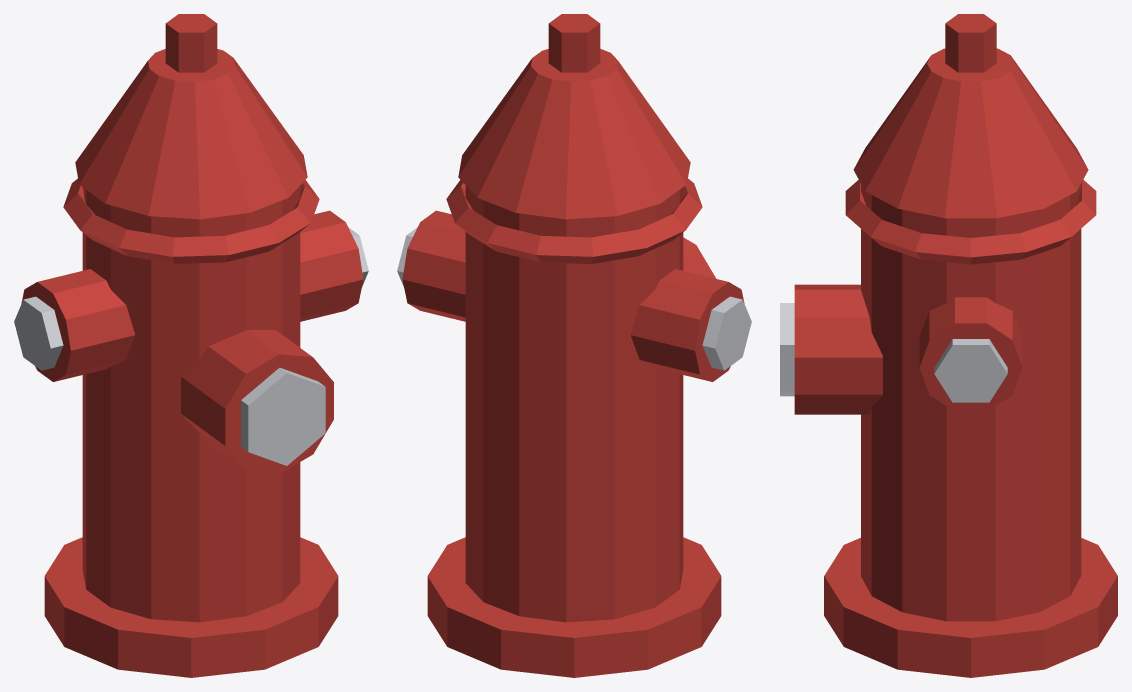
The model's file is fire_hydrant.glb.
3 views of the same model, side by side, from view 1: azimuth 30°, elevation 25°; view 2: azimuth 150°, elevation 25°; view 3: azimuth 270°, elevation 25° (orthographic).
Visible parts, largest first — view 1: fire_hydrant; view 2: fire_hydrant; view 3: fire_hydrant.
Boxes of the visible parts, x1,y1,x2,y2 form: fire_hydrant: (14, 14, 368, 677); fire_hydrant: (397, 14, 751, 677); fire_hydrant: (780, 14, 1117, 677).
Size of the model in its own units: 0.5 by 0.89 by 0.46.
